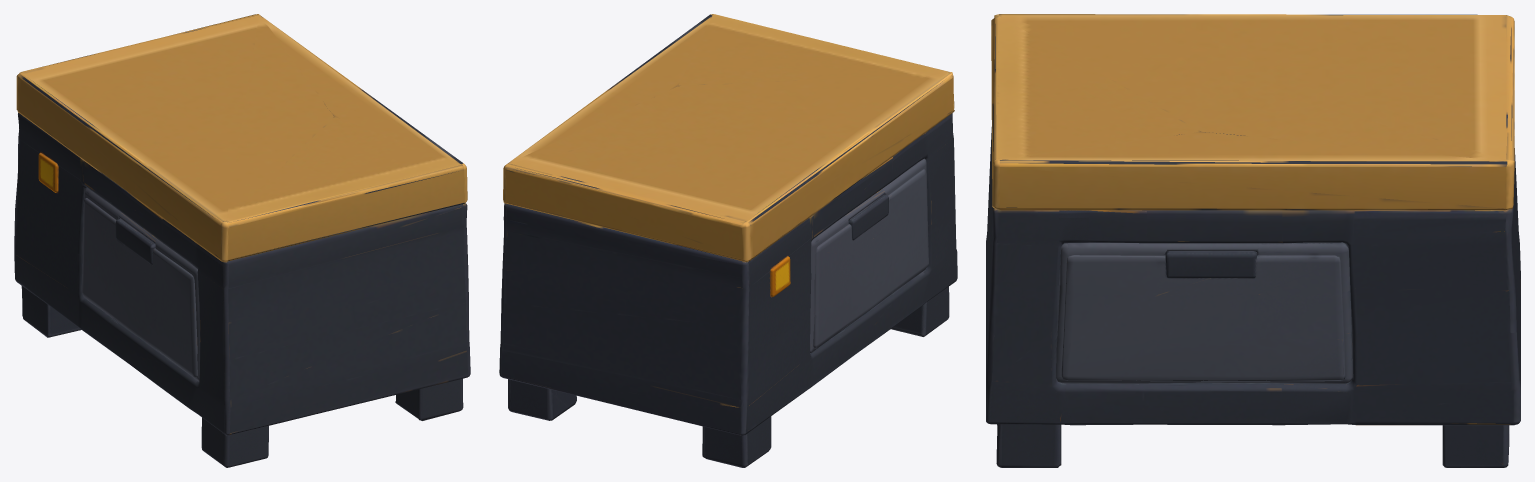
File: generator.glb
3 renders of one model, left to right at view 1: azimuth 30°, elevation 25°; view 2: azimuth 150°, elevation 25°; view 3: azimuth 270°, elevation 25°, orthographic. The views are drawn at different scales.
Size of the model in its own units: 0.6797 by 0.6387 by 1.
1 material, 1 textured.
